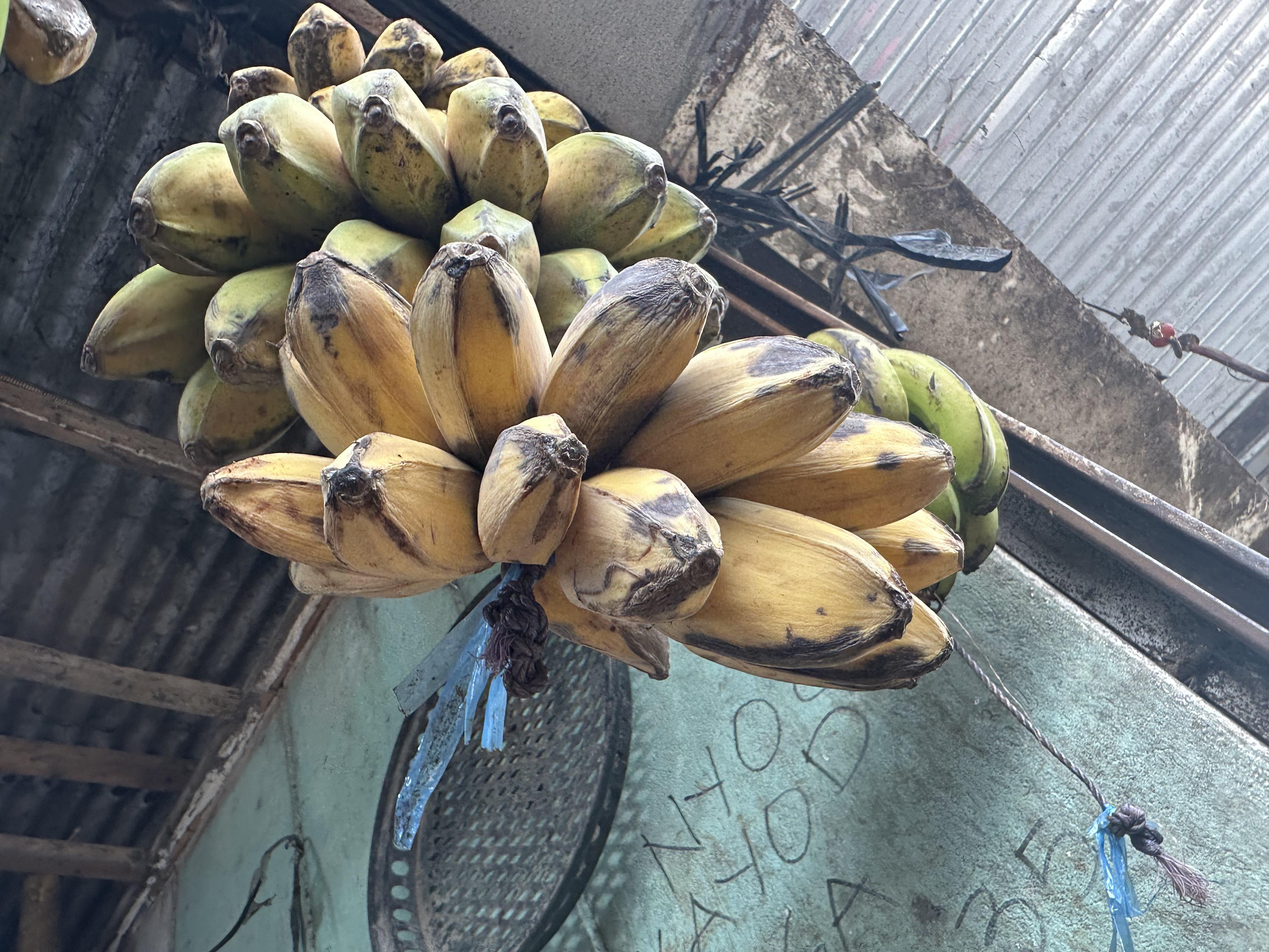ripe: (198, 243, 965, 694), (229, 1, 510, 121), (526, 91, 592, 151)
underripe: (82, 71, 716, 471)
